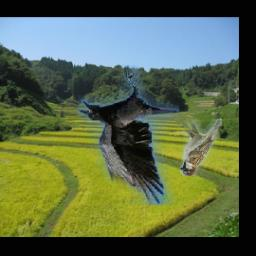Crow: (79, 66, 180, 206)
Sparrow: (180, 119, 222, 177)
